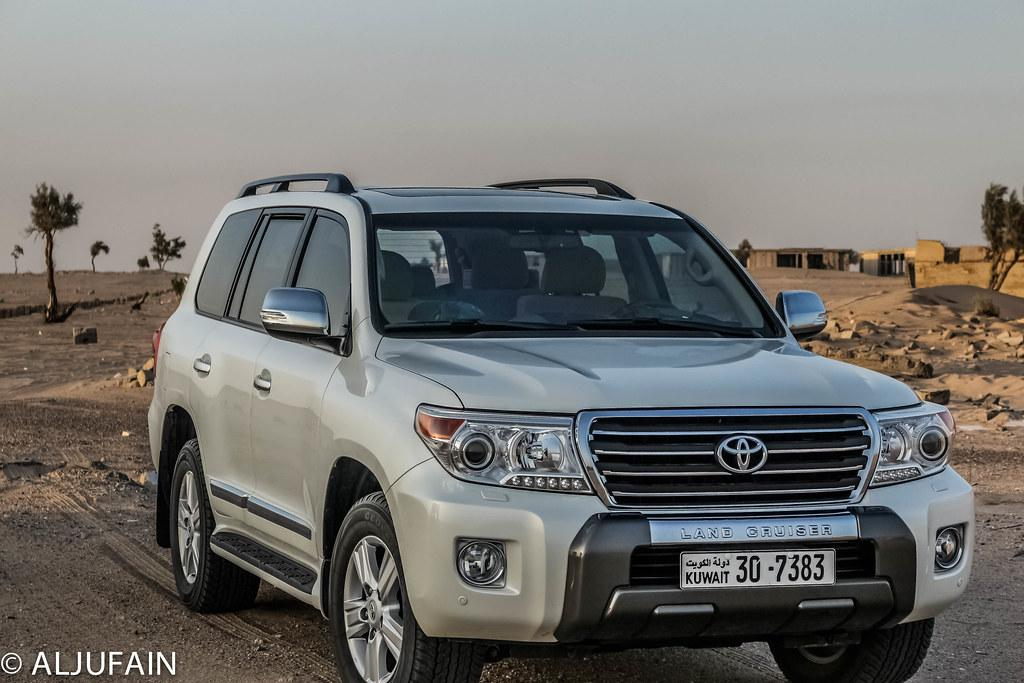car: (148, 171, 977, 683)
